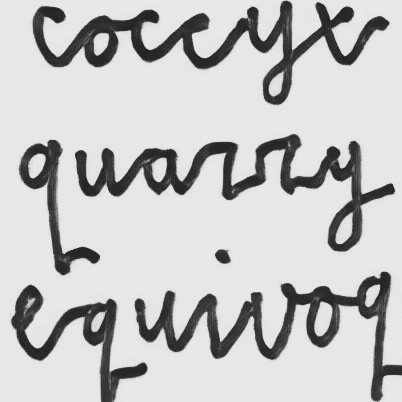a: (137, 145, 182, 198)
q: (14, 136, 68, 276)
u: (72, 144, 118, 198)
y: (321, 139, 369, 254)
z: (253, 131, 305, 197), (198, 139, 244, 202)
